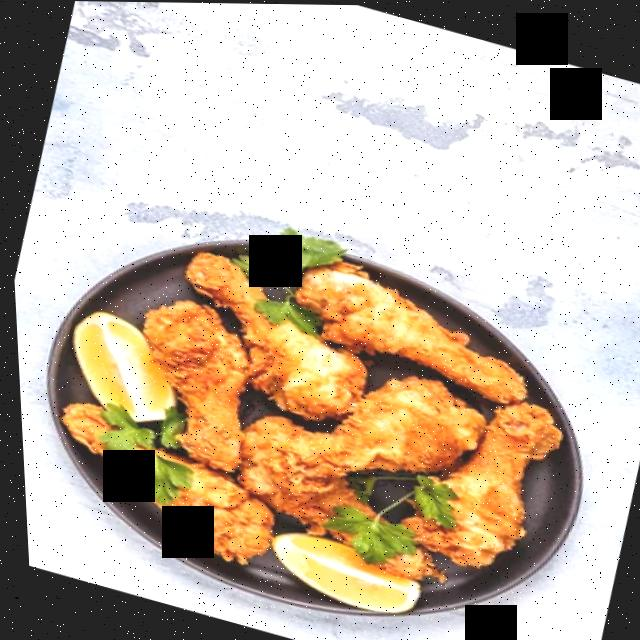Frango: (18, 193, 597, 637)
